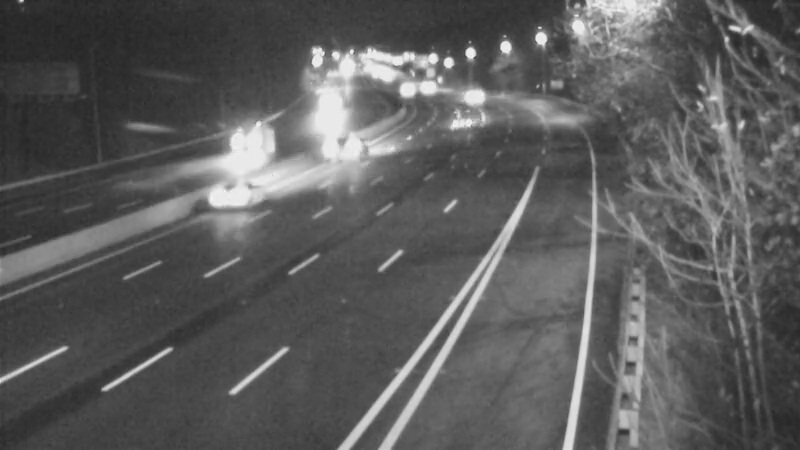vehicle: (196, 163, 276, 243), (377, 65, 427, 115), (405, 64, 455, 114), (451, 71, 501, 121), (434, 96, 484, 146), (317, 118, 367, 168), (219, 111, 269, 161), (309, 77, 359, 127)
